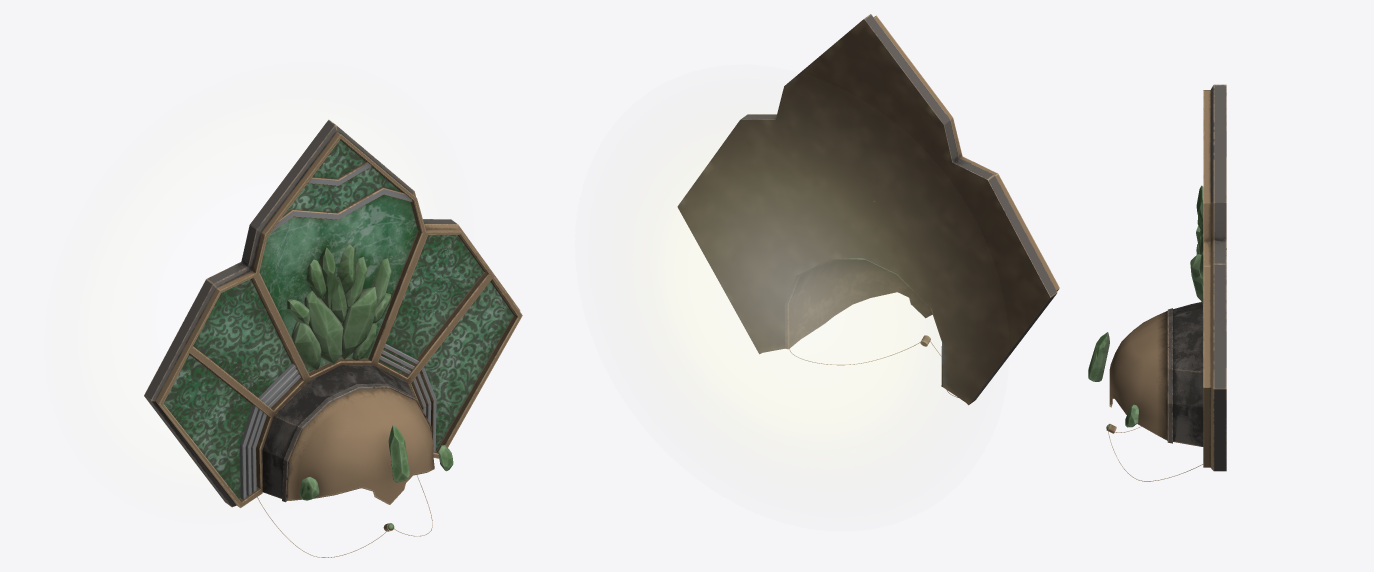
Rendered from kokoshnik.gltf.
3 renders of one model, left to right at view 1: azimuth 30°, elevation 25°; view 2: azimuth 150°, elevation 25°; view 3: azimuth 270°, elevation 25°, orthographic. The views are drawn at different scales.
Parts seen in each view (by area): view 1: polySurface30.003; view 2: polySurface30.003; view 3: polySurface30.003.
Boxes of the visible parts, x1,y1,x2,y2 form: polySurface30.003: (110, 119, 522, 557); polySurface30.003: (642, 14, 1059, 459); polySurface30.003: (1088, 84, 1226, 481).
Bounding box in the file's own units: 43.51 × 45 × 22.32.
Materials: 2 (2 with a texture image).
